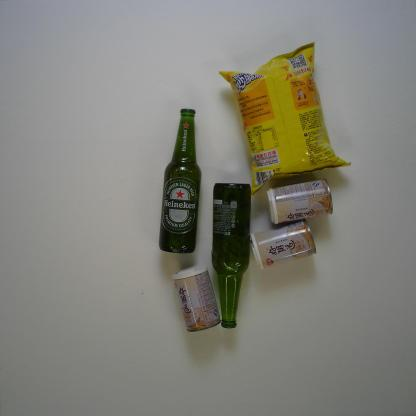Alcohol: (158, 108, 202, 254), (210, 182, 253, 329)
Canned Food: (171, 263, 223, 334), (249, 218, 317, 270), (266, 177, 334, 225)
Puffed Food: (219, 40, 352, 197)
